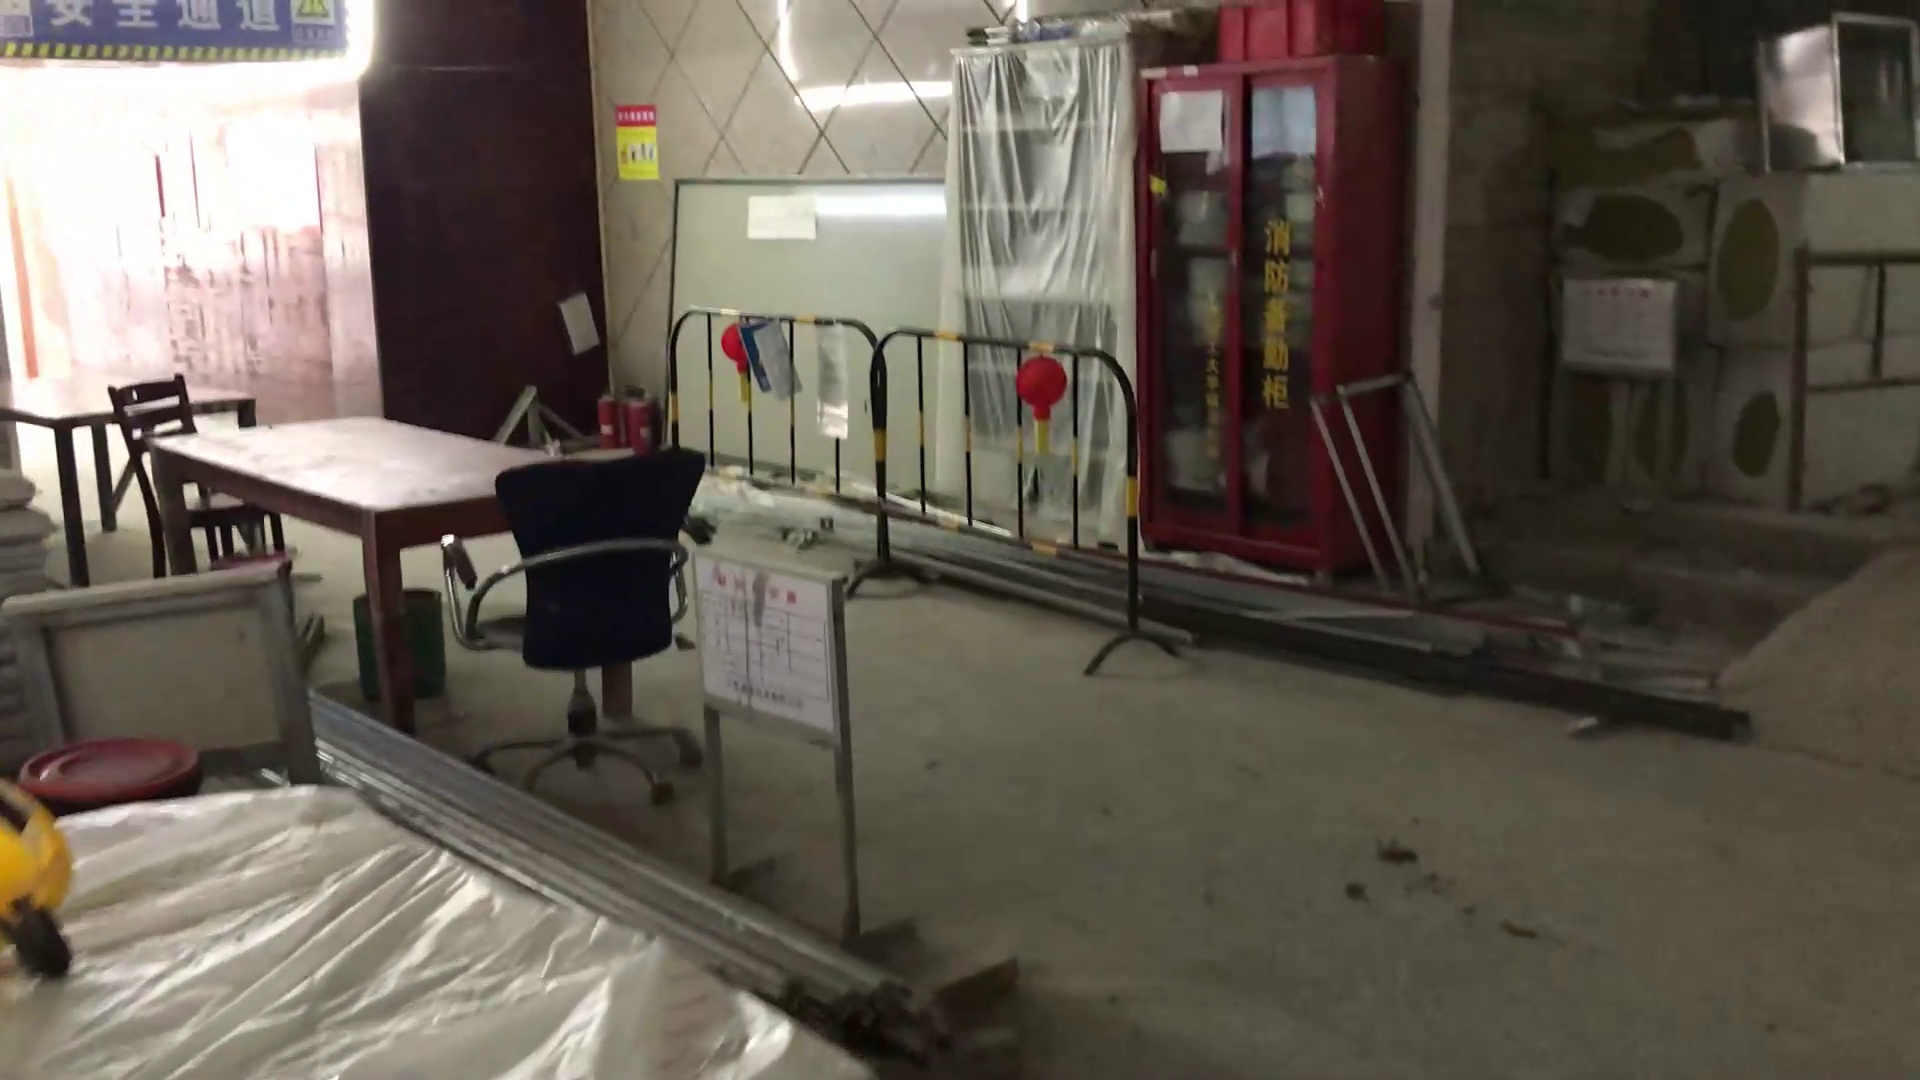fence: (657, 280, 1180, 673)
helmet: (1, 757, 84, 969)
slogan: (13, 7, 359, 74), (615, 100, 669, 191)
